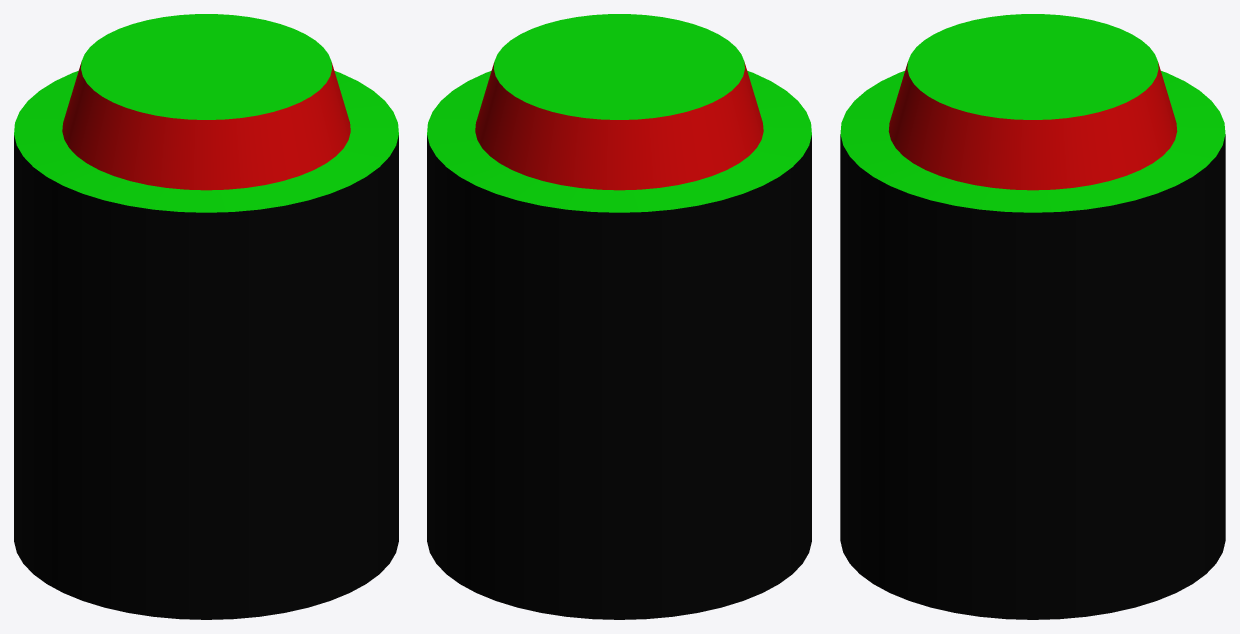
The model's file is bumper - canister C.fbx.
3 views of the same model, side by side, from view 1: azimuth 30°, elevation 25°; view 2: azimuth 150°, elevation 25°; view 3: azimuth 270°, elevation 25° (orthographic).
Parts seen in each view (by area): view 1: canister_C; view 2: canister_C; view 3: canister_C.
Boxes of the visible parts, x1,y1,x2,y2 form: canister_C: (14,14,398,619); canister_C: (427,14,811,619); canister_C: (840,14,1225,619).
Size of the model in its own units: 111 by 150 by 111.
